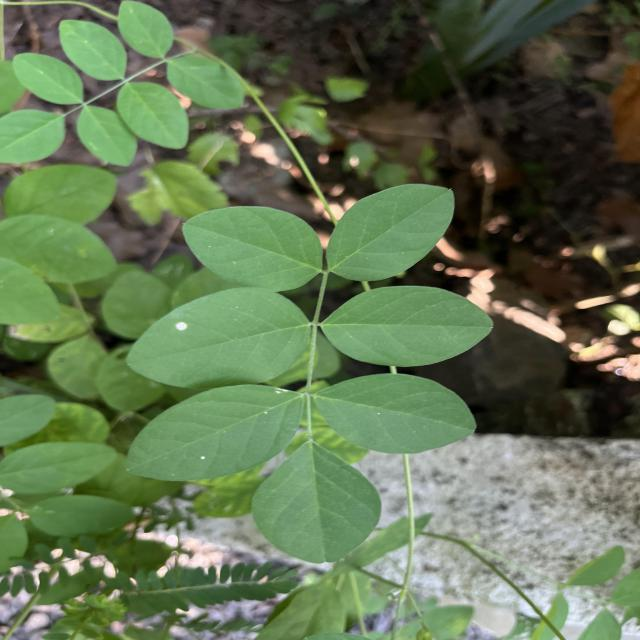Clitoria ternatea: (124, 286, 312, 390), (124, 383, 305, 482), (250, 442, 383, 566), (320, 285, 495, 368), (313, 372, 479, 456), (324, 183, 457, 284), (180, 204, 324, 294)
